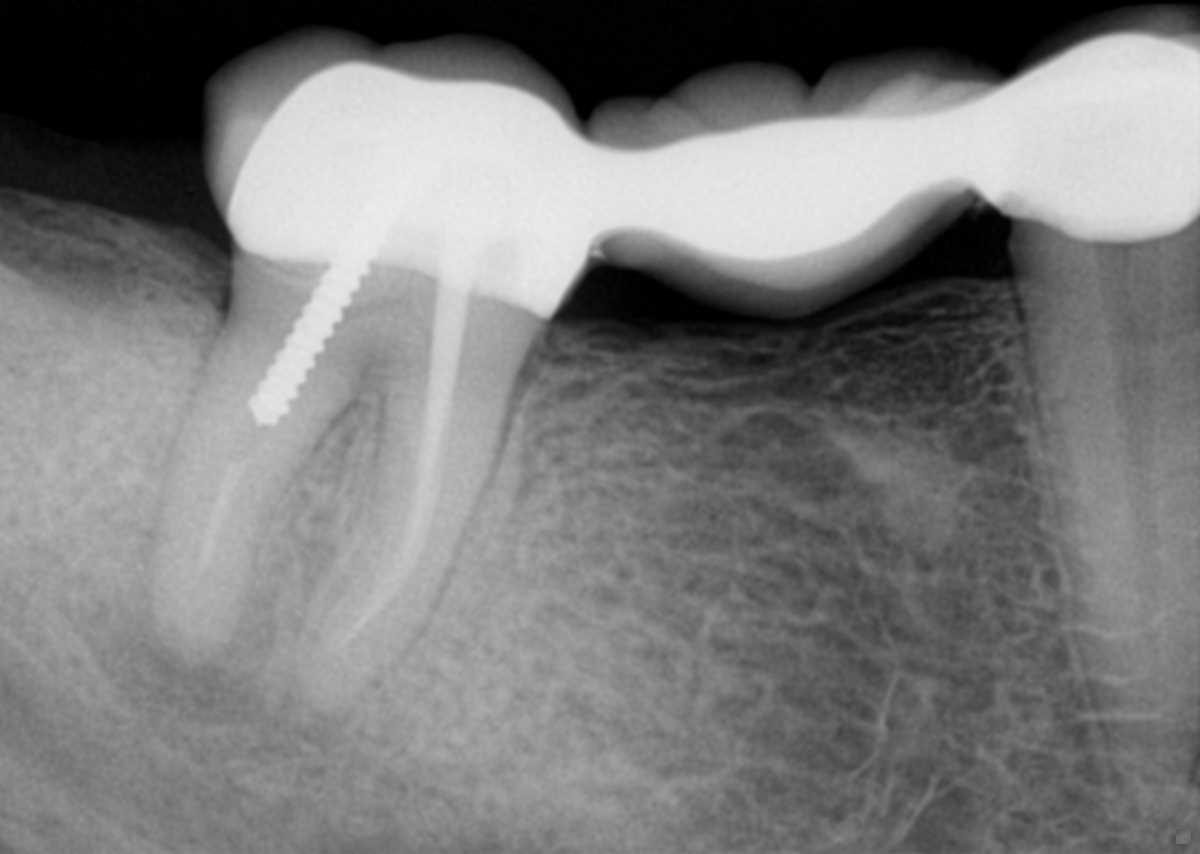Apical Lesion: (104, 539, 292, 739), (281, 690, 360, 751)
Distal Root: (151, 281, 373, 663)
Main Canal: (1091, 276, 1169, 743)
Main Root: (1010, 273, 1200, 811)
Mesial Root: (294, 352, 527, 713)
Root Canal Filling: (334, 280, 466, 652), (191, 453, 249, 597)
